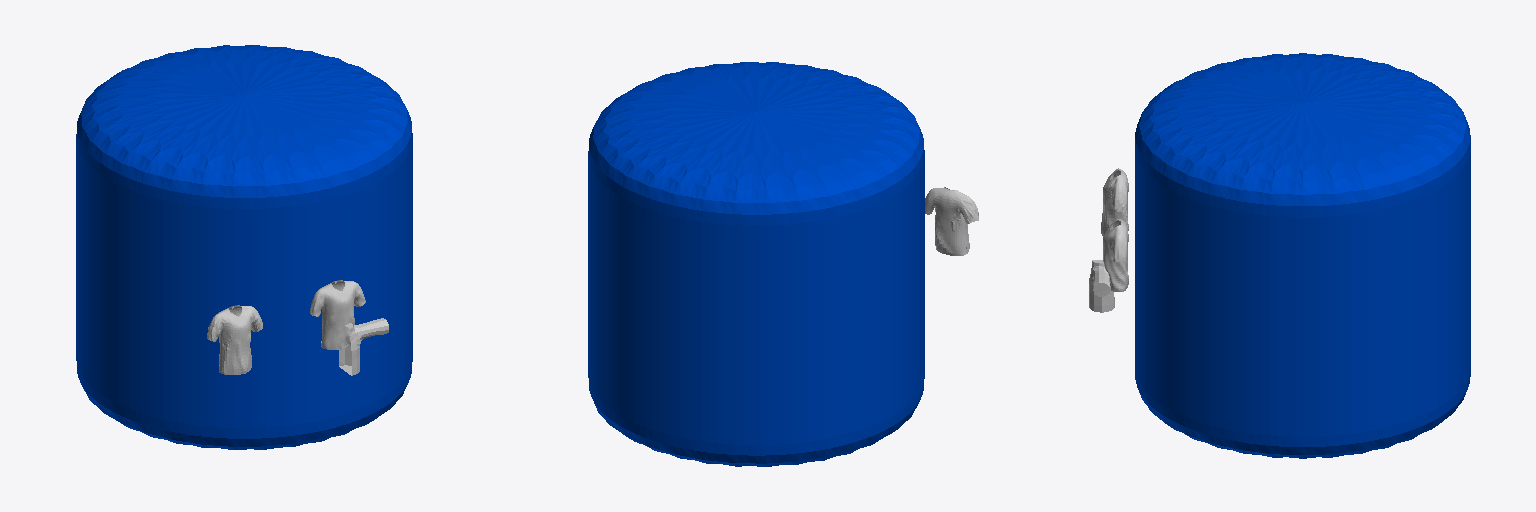
Rendered from SPORTSHIRT.obj.
3 views of the same model, side by side, from view 1: azimuth 30°, elevation 25°; view 2: azimuth 150°, elevation 25°; view 3: azimuth 270°, elevation 25° (orthographic).
Visible parts, largest first — view 1: Cylinder, Plane.002_Plane.009, Plane_Plane.008, cage_Cube.012; view 2: Cylinder, Plane.002_Plane.009; view 3: Cylinder, Plane_Plane.008, Plane.002_Plane.009, cage_Cube.012.
Boxes of the visible parts, box(x1,y1,x2,y2) form: Cylinder: box(76, 45, 412, 449); Plane.002_Plane.009: box(207, 305, 262, 374); Plane_Plane.008: box(310, 280, 365, 349); cage_Cube.012: box(339, 318, 388, 375); Cylinder: box(588, 62, 924, 466); Plane.002_Plane.009: box(925, 187, 978, 255); Cylinder: box(1135, 53, 1470, 458); Plane_Plane.008: box(1103, 219, 1128, 291); Plane.002_Plane.009: box(1101, 168, 1128, 236); cage_Cube.012: box(1089, 260, 1114, 312).
Bounding box in the file's own units: 45.43 × 45.47 × 51.62.